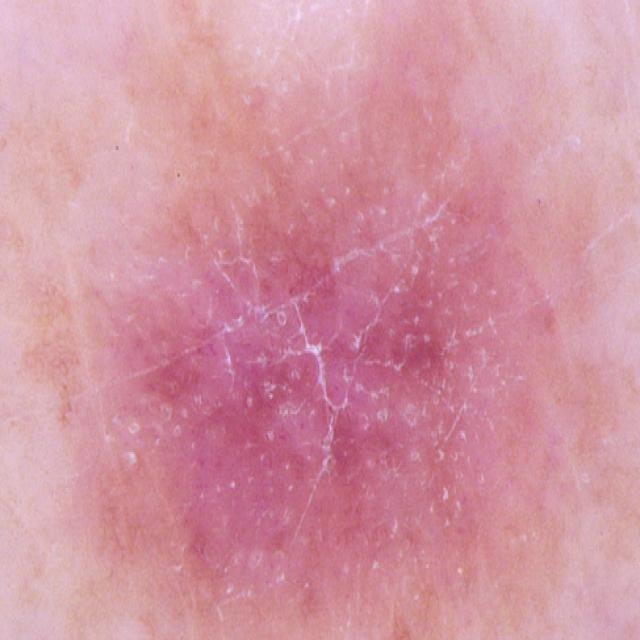Dermatofibroma: (44, 136, 588, 622)
